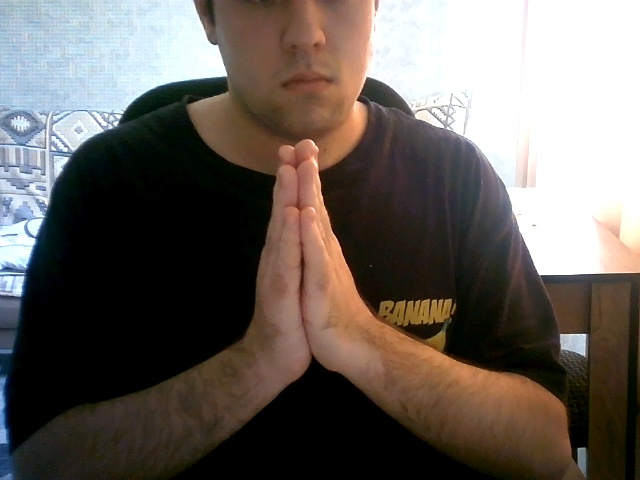please: (239, 137, 405, 437)
